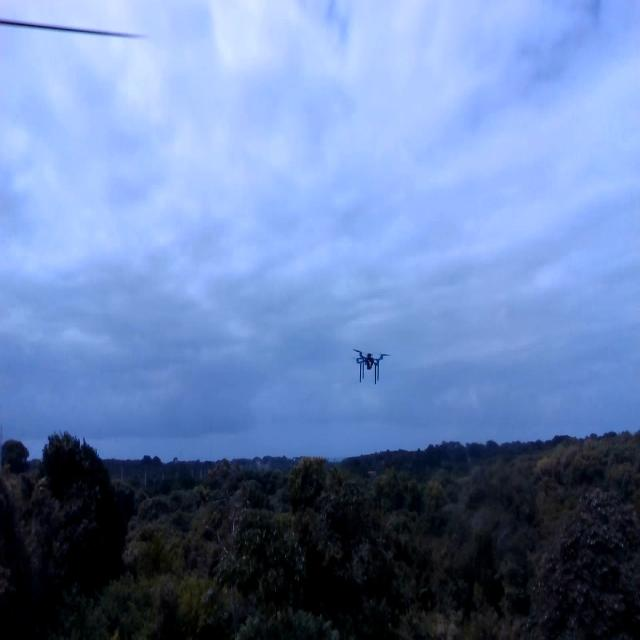-uav-: (349, 339, 392, 394)
